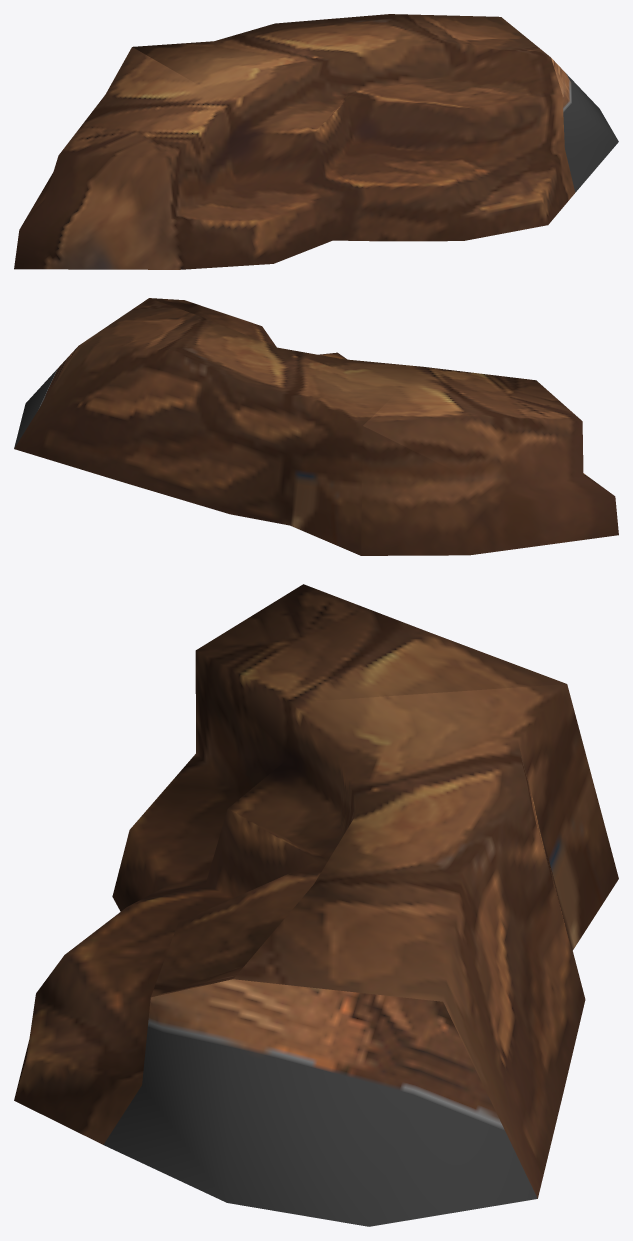
File: ShiTou03.FBX
3 views of the same model, one above another, from view 1: azimuth 30°, elevation 25°; view 2: azimuth 150°, elevation 25°; view 3: azimuth 270°, elevation 25° (orthographic). The views are drawn at different scales.
Parts seen in each view (by area): view 1: ShiTou03; view 2: ShiTou03; view 3: ShiTou03.
Boxes of the visible parts, <box> form: ShiTou03: <box>14,14,618,269</box>; ShiTou03: <box>14,298,618,555</box>; ShiTou03: <box>14,584,618,1226</box>.
Size of the model in its own units: 224 by 43.1 by 115.
